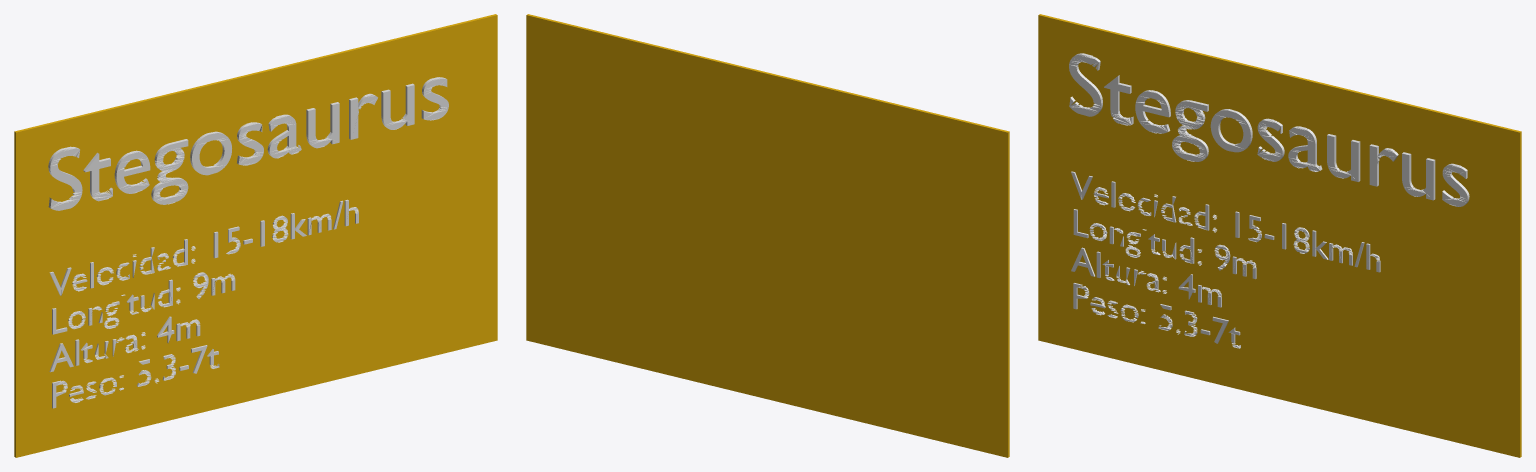
File: PlacaOroStegosaurus.fbx
3 renders of one model, left to right at view 1: azimuth 30°, elevation 25°; view 2: azimuth 150°, elevation 25°; view 3: azimuth 330°, elevation 25°, orthographic.
Visible parts, largest first — view 1: Cube, Text, Text.001; view 2: Cube; view 3: Cube, Text, Text.001.
Boxes of the visible parts, box(x1,y1,x2,y2) form: Cube: box(14, 14, 497, 457); Text: box(48, 77, 448, 210); Text.001: box(49, 199, 358, 408); Cube: box(526, 14, 1009, 457); Cube: box(1038, 14, 1521, 457); Text: box(1069, 53, 1469, 206); Text.001: box(1071, 171, 1380, 348).
Bounding box in the file's own units: 1.02 × 0.6577 × 0.0125.
